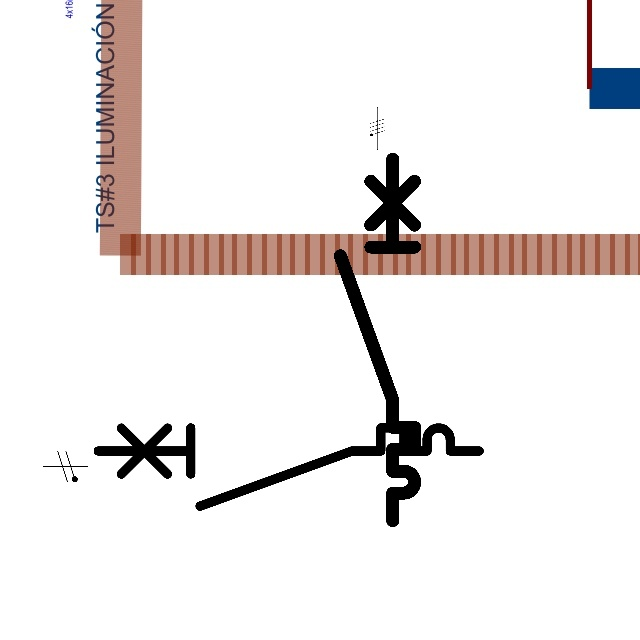interruptor_termomagnetico: (88, 418, 488, 516), (331, 149, 424, 529)
